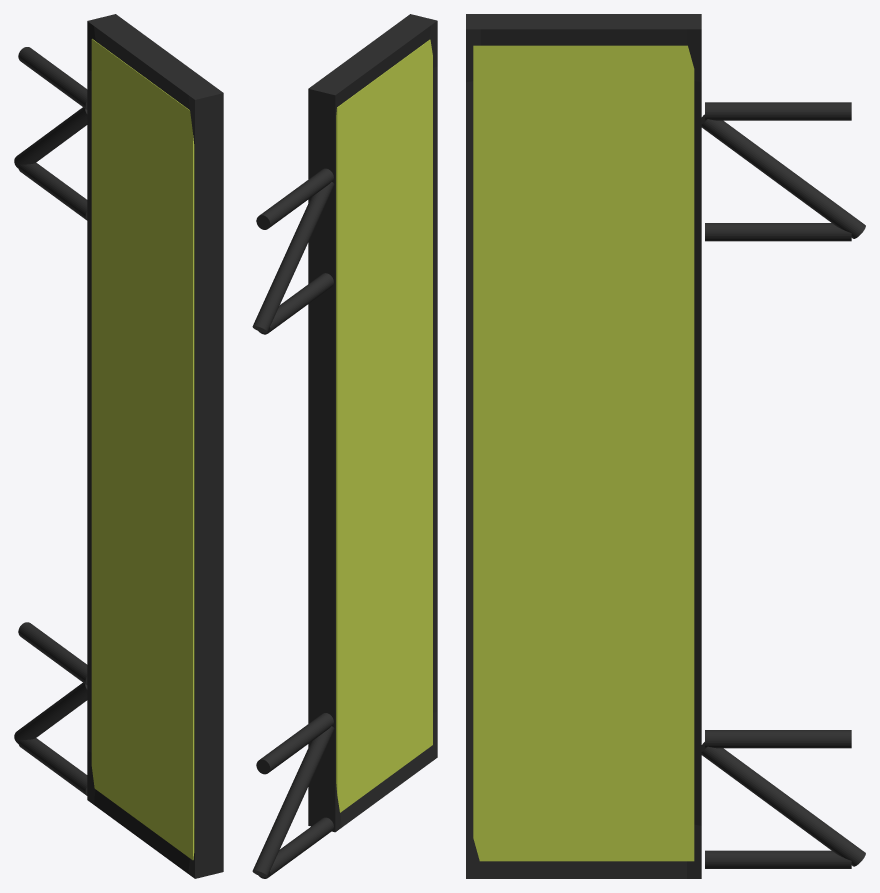
The model's file is sign_001.glb.
3 renders of one model, left to right at view 1: azimuth 30°, elevation 25°; view 2: azimuth 150°, elevation 25°; view 3: azimuth 270°, elevation 25°, orthographic. The views are drawn at different scales.
Parts seen in each view (by area): view 1: sign_main, sign_border, support_bottom, support_top; view 2: sign_main, sign_border, support_bottom, support_top; view 3: sign_main, sign_border, support_top, support_bottom.
Boxes of the visible parts, x1,y1,x2,y2 form: sign_main: (91, 39, 194, 860); sign_border: (87, 14, 223, 878); support_bottom: (14, 622, 87, 795); support_top: (14, 47, 87, 220); sign_main: (336, 39, 432, 812); sign_border: (308, 14, 437, 832); support_bottom: (252, 713, 334, 878); support_top: (252, 168, 334, 334); sign_main: (473, 45, 694, 861); sign_border: (466, 14, 701, 878); support_top: (701, 102, 865, 241); support_bottom: (701, 730, 865, 868).
Size of the model in its own units: 0.4863 by 12.64 by 5.39.
